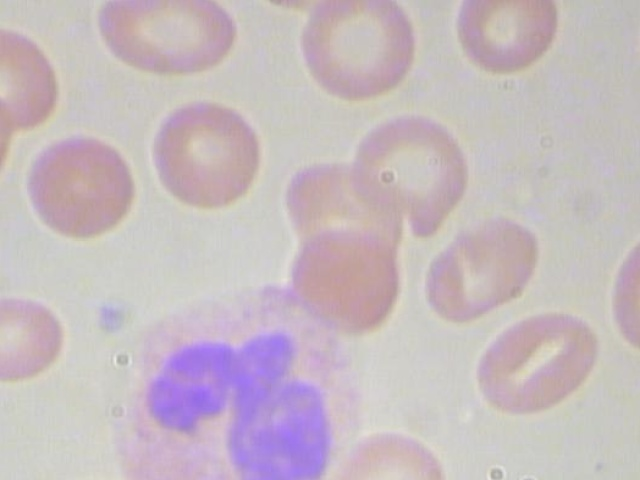RBC: (342, 105, 481, 244), (281, 215, 406, 340), (146, 91, 272, 215), (19, 127, 145, 251), (477, 310, 609, 424), (420, 212, 543, 324), (292, 0, 423, 105), (85, 0, 241, 79), (447, 0, 570, 79), (309, 412, 450, 480), (0, 12, 70, 137), (0, 287, 71, 385), (0, 70, 24, 195), (0, 198, 1, 296)
WBC: (84, 279, 368, 480)
